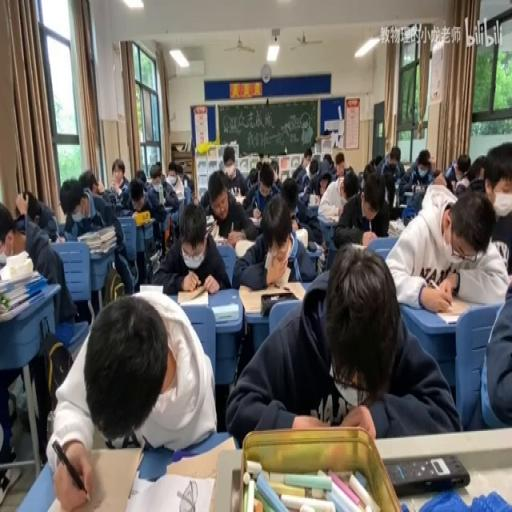calculator: (384, 452, 470, 496), (128, 469, 215, 512), (162, 434, 235, 480), (238, 280, 305, 314), (432, 296, 471, 321), (176, 286, 208, 304), (212, 302, 238, 322), (234, 238, 256, 256), (318, 205, 340, 223), (274, 263, 290, 286), (386, 216, 402, 236), (346, 240, 369, 252), (294, 228, 307, 248), (139, 284, 162, 294), (205, 216, 216, 236), (298, 180, 310, 198), (148, 249, 160, 266), (214, 233, 228, 245), (403, 189, 415, 201), (233, 195, 246, 206), (140, 214, 154, 224), (157, 183, 163, 205), (248, 214, 261, 224), (52, 233, 65, 243), (308, 194, 318, 206), (398, 202, 408, 206)
paper: (226, 248, 452, 442), (50, 286, 218, 508), (0, 196, 77, 474), (384, 186, 507, 312), (62, 178, 130, 301), (231, 193, 314, 289), (462, 269, 510, 428), (158, 198, 229, 293), (333, 166, 390, 249), (12, 188, 59, 240), (482, 144, 511, 219), (400, 148, 436, 203), (145, 160, 178, 218), (218, 145, 248, 196), (490, 208, 512, 270), (443, 151, 471, 193), (380, 145, 406, 182), (280, 176, 299, 218), (109, 156, 128, 194), (78, 168, 98, 196), (468, 155, 486, 182), (332, 150, 346, 180), (290, 162, 306, 186), (130, 184, 144, 209), (342, 175, 356, 200), (176, 160, 187, 190), (362, 160, 375, 184), (247, 166, 258, 185), (308, 159, 318, 179), (269, 158, 278, 180), (134, 168, 146, 183), (322, 154, 332, 170), (302, 148, 312, 163), (373, 155, 382, 169), (427, 155, 436, 169), (431, 168, 440, 176), (256, 160, 262, 170)
person: (308, 240, 318, 252)
